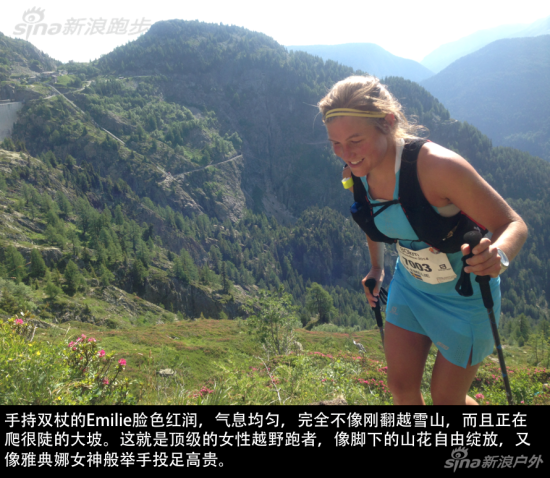other: (320, 69, 514, 407)
